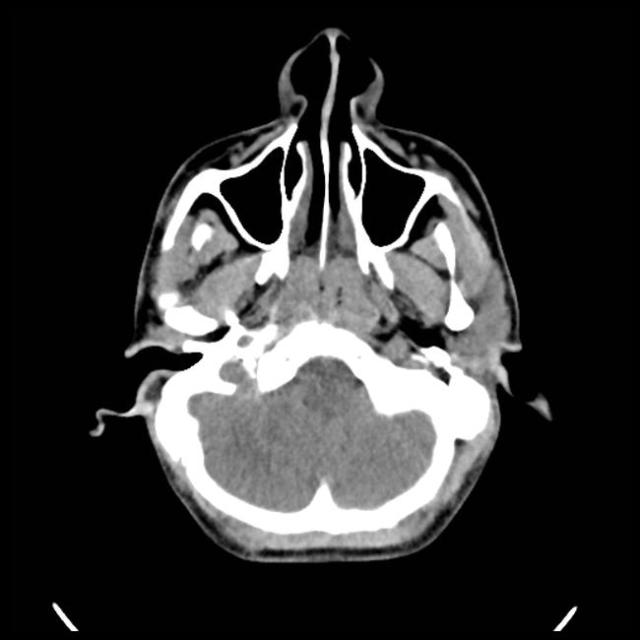lesion: (89, 25, 548, 568)
